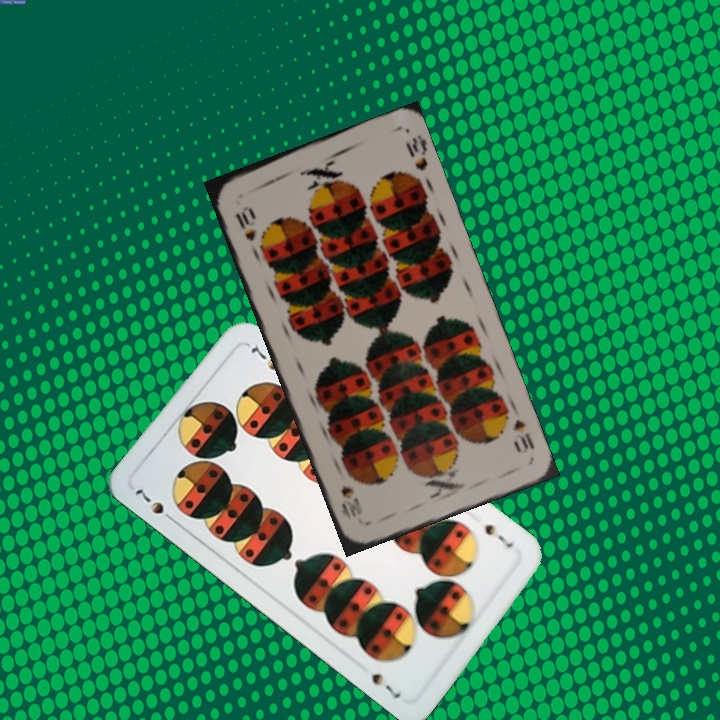S10: (508, 415, 537, 456), (231, 202, 259, 244)
S7: (131, 483, 179, 526), (480, 519, 516, 551)
